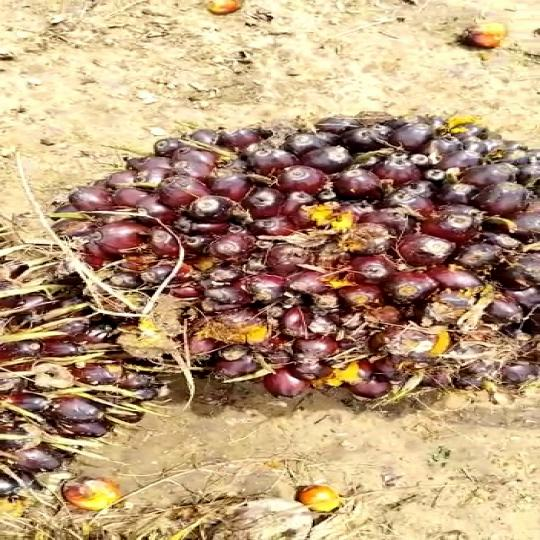kurang masak: (20, 84, 540, 437)
